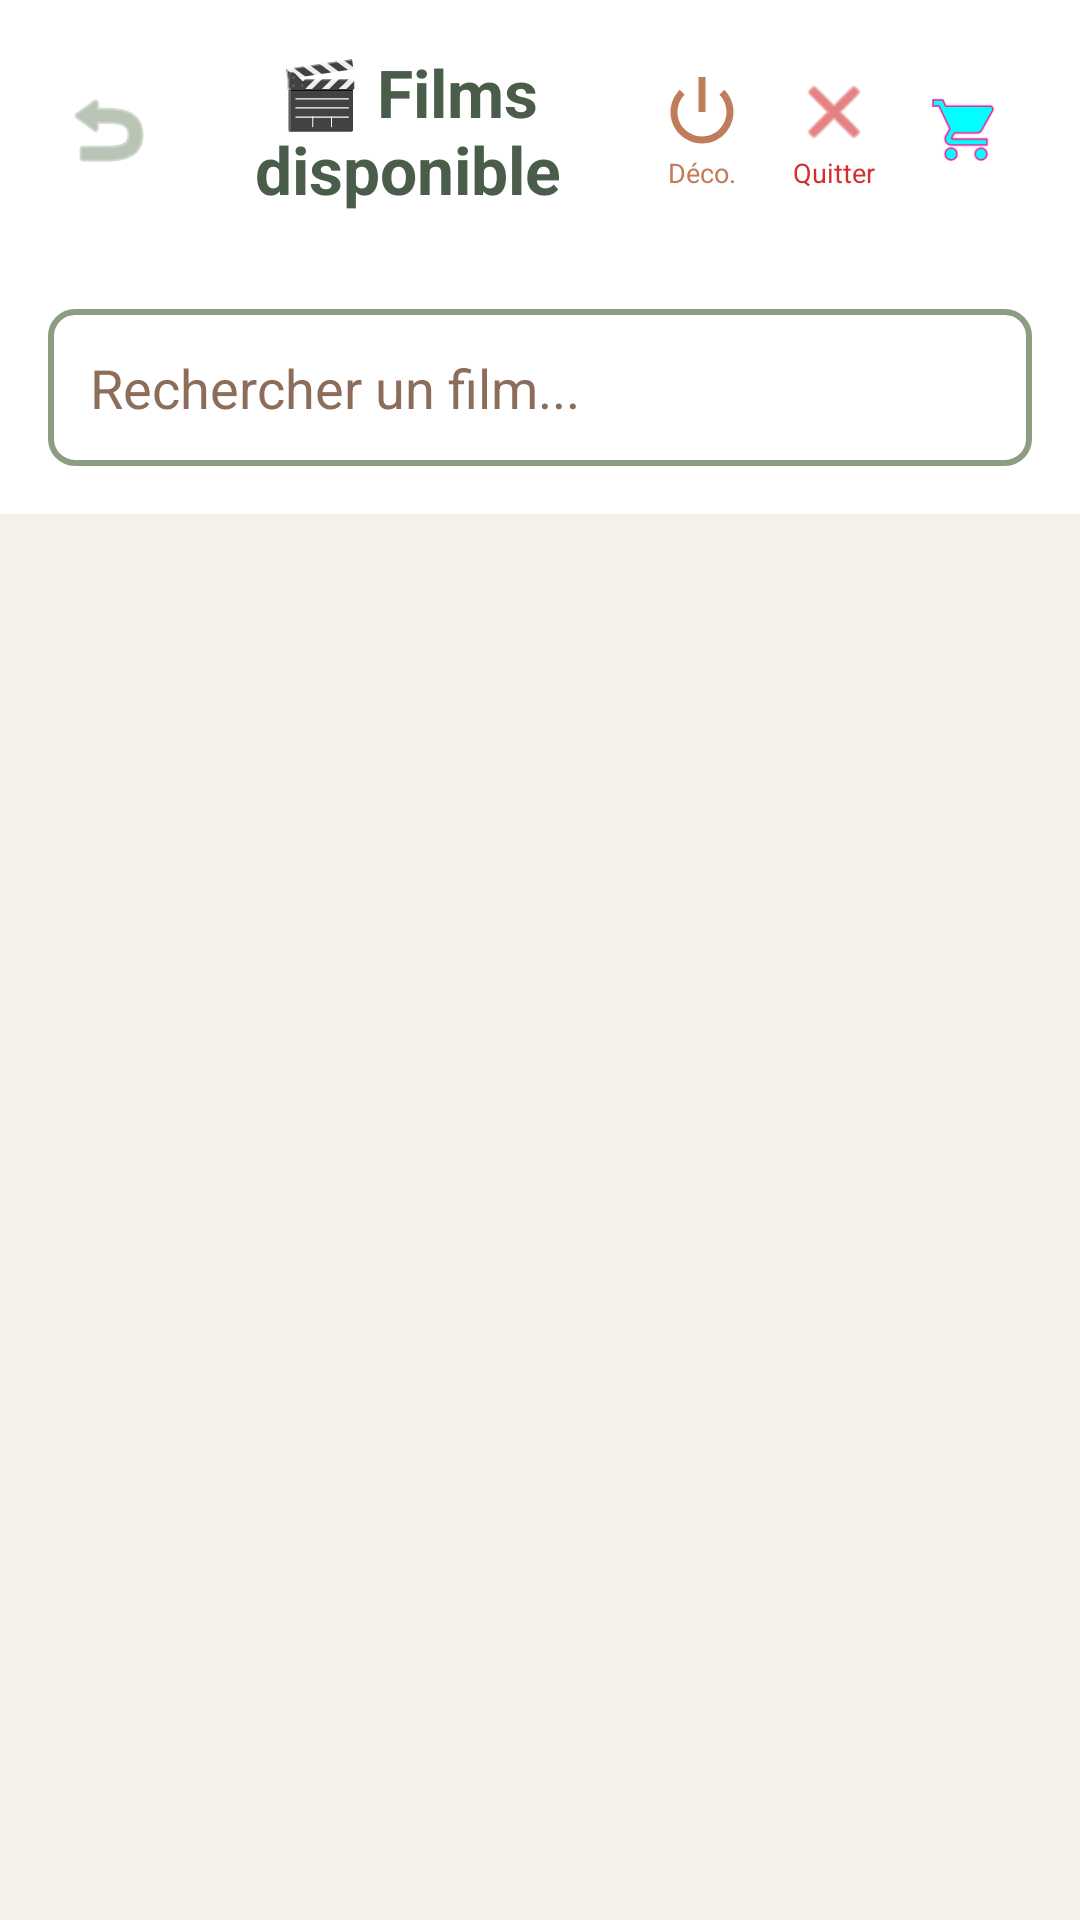

Icons on this 1080px x 1920px Android screen, each with its box as rect(x1, y1, x2, y2):
Panier: rect(932, 99, 994, 161)
Retour: rect(75, 100, 144, 162)
